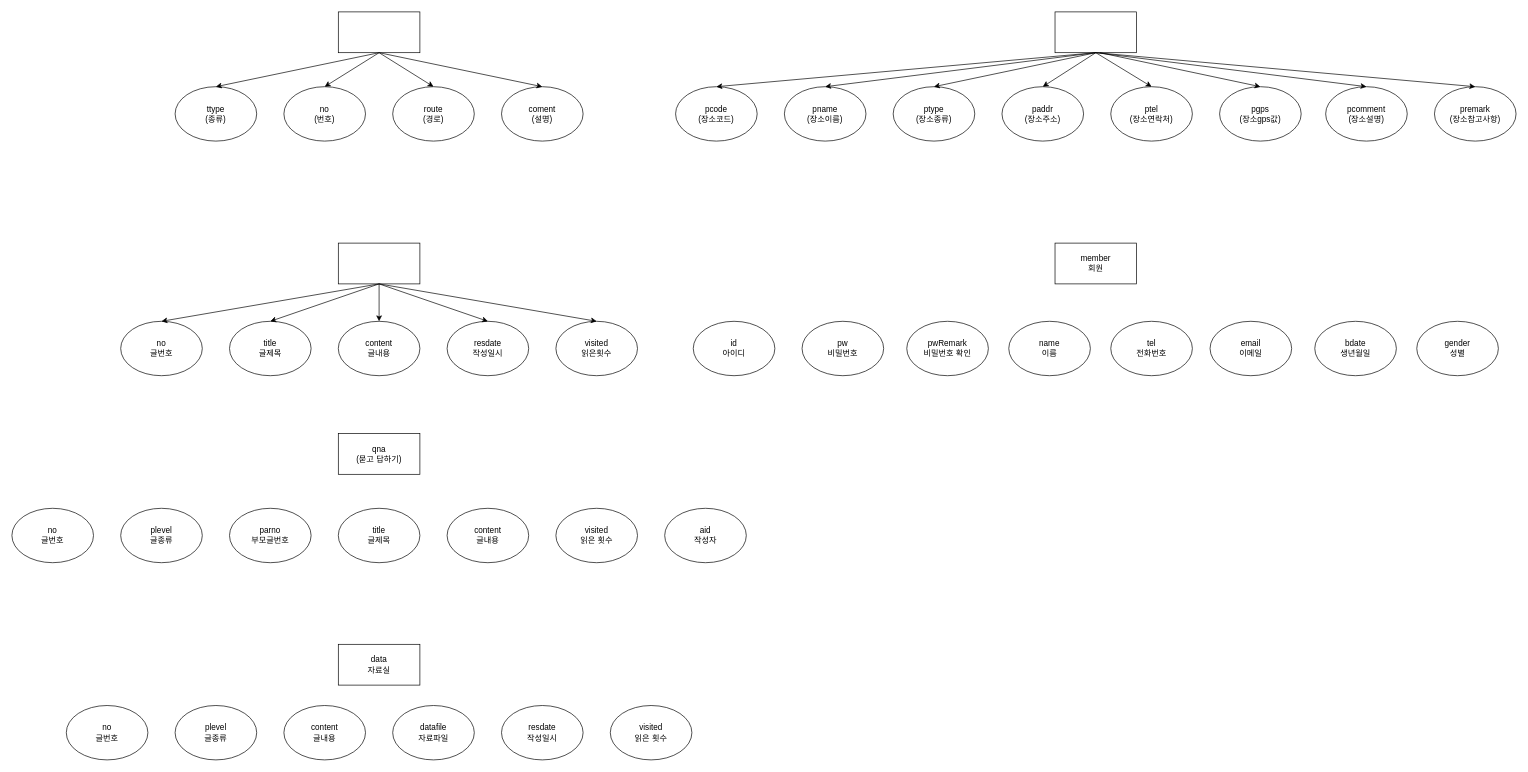
This 1528x772 diagram has some shape labels left out. Here are the shapes that lost their labels. From the top down, the centre of each, then its label:
At point (379, 32): "traffic 교통편".
At point (1095, 32): "guide 안내사항".
At point (379, 263): "notice 공지사항".
